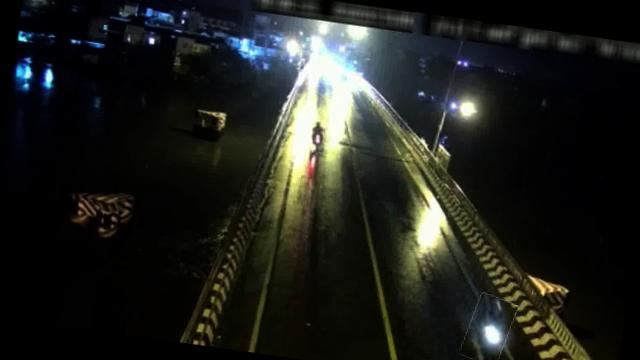Bike: (460, 291, 515, 360), (308, 120, 326, 154)
